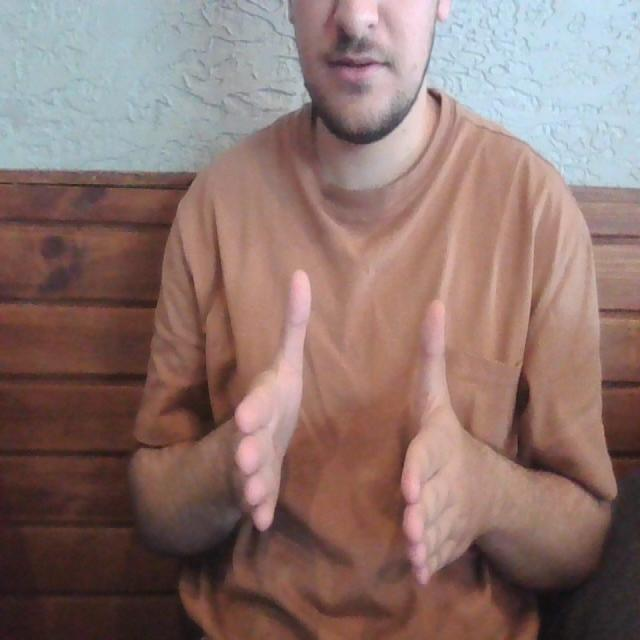Nasil: (210, 253, 483, 607)
